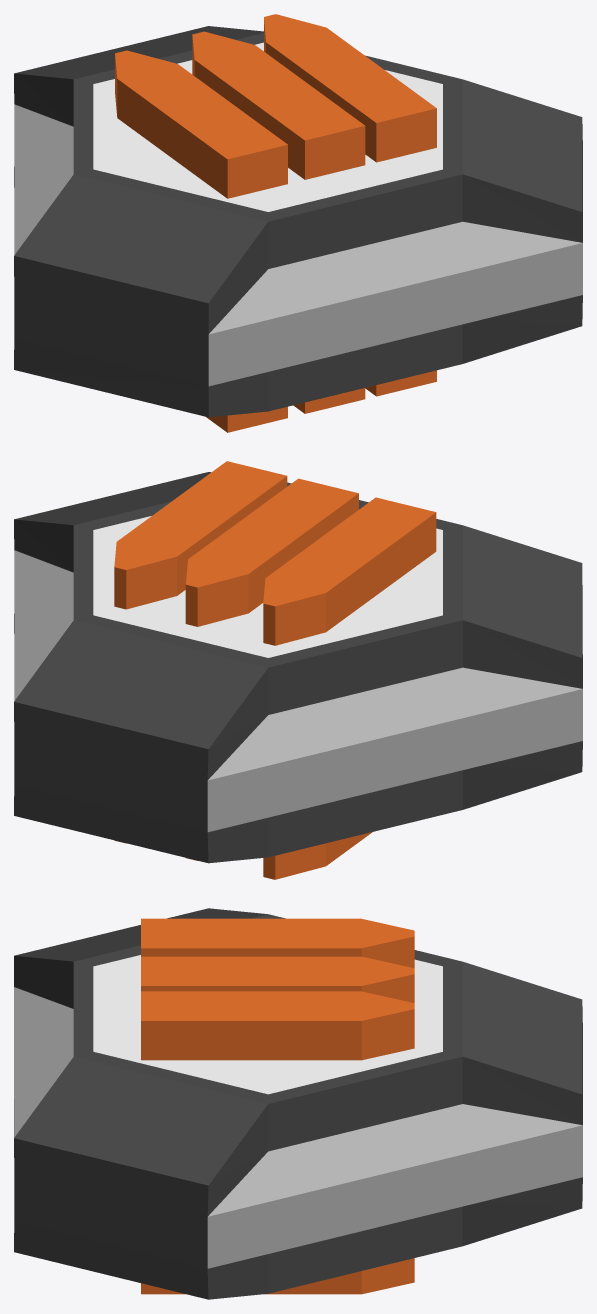
Rendered from AmmoPickup.fbx.
3 views of the same model, one above another, from view 1: azimuth 30°, elevation 25°; view 2: azimuth 150°, elevation 25°; view 3: azimuth 270°, elevation 25° (orthographic).
Visible parts, largest first — view 1: Ammo; view 2: Ammo; view 3: Ammo.
Boxes of the visible parts, x1,y1,x2,y2 form: Ammo: (14,14,582,432); Ammo: (14,461,582,879); Ammo: (14,908,582,1299).
Bounding box in the file's own units: 6.27 × 2.88 × 5.44.
1 material, 1 textured.
